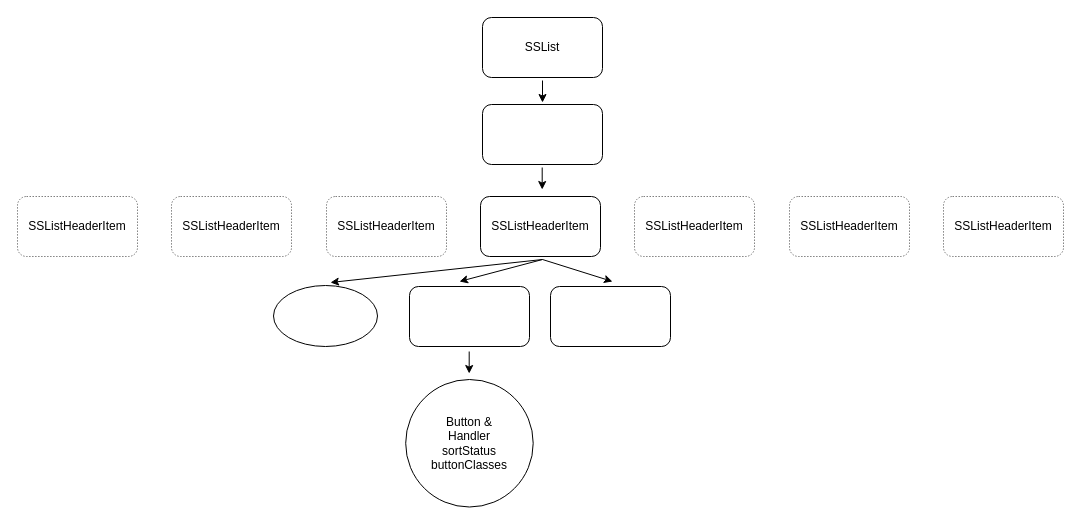
The diagram is 1081 pixels wide and 525 high, and some of its shapes have lost their labels. The centre of each missing label's shape, as x and y in pixels:
"H4" belongs at point 325,315.
"SSListFilterButton" belongs at point 610,316.
"SSListHeader" belongs at point 542,134.
"SSListSortButton" belongs at point 469,316.
